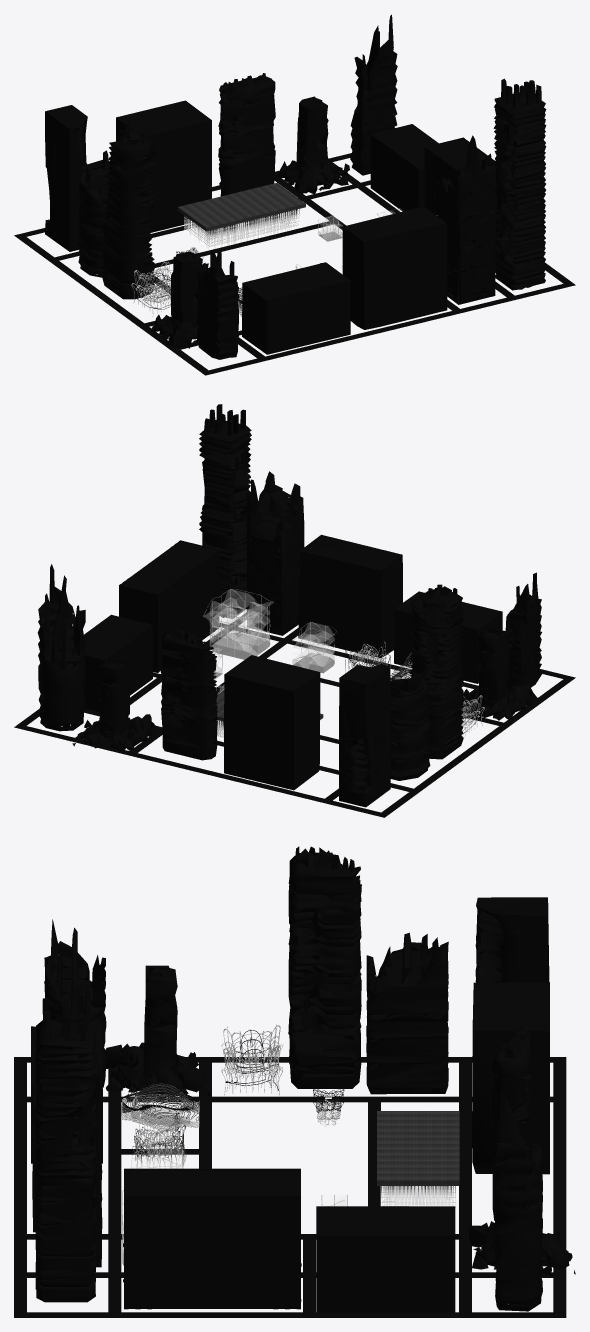
The model's file is BLACKCITY-v4.glb.
3 renders of one model, top to bottom at view 1: azimuth 30°, elevation 25°; view 2: azimuth 150°, elevation 25°; view 3: azimuth 270°, elevation 25°, orthographic. The views are drawn at different scales.
Visible parts, largest first — view 1: Merged Objects 5, BLACK CITY opti, Mesh_1, vert, horiz, r2, P3; view 2: Merged Objects 5, BLACK CITY opti, 8, gf, column, gfaccde; view 3: Merged Objects 5, BLACK CITY opti, Mesh_1, r2, P3, horiz, vert, 8, R3, P1, P2, R1.
Boxes of the visible parts, x1,y1,x2,y2 form: Merged Objects 5: (45, 14, 546, 359); BLACK CITY opti: (14, 153, 575, 375); Mesh_1: (177, 183, 305, 231); vert: (184, 209, 299, 249); horiz: (184, 209, 299, 246); r2: (134, 262, 242, 316); P3: (135, 247, 242, 310); Merged Objects 5: (37, 404, 541, 807); BLACK CITY opti: (14, 612, 575, 817); 8: (204, 589, 334, 693); gf: (210, 633, 334, 679); column: (210, 589, 325, 691); gfaccde: (210, 625, 334, 677); Merged Objects 5: (31, 846, 575, 1312); BLACK CITY opti: (14, 1057, 566, 1317); Mesh_1: (377, 1111, 459, 1185); r2: (121, 1024, 280, 1129); P3: (122, 1030, 344, 1132); horiz: (380, 1186, 455, 1207); vert: (381, 1186, 455, 1212); 8: (122, 1149, 347, 1254); R3: (122, 1094, 339, 1145); P1: (221, 1043, 337, 1125); P2: (132, 1104, 340, 1164); R1: (134, 1125, 186, 1168).
Bounding box in the file's own units: 380 × 199 × 346.
16 materials, 4 textured.
